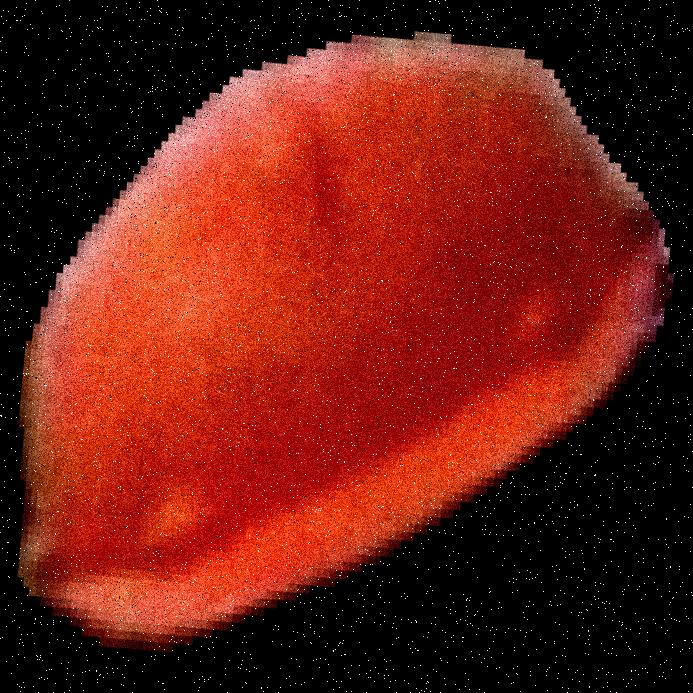Capacete: (77, 0, 568, 692)
